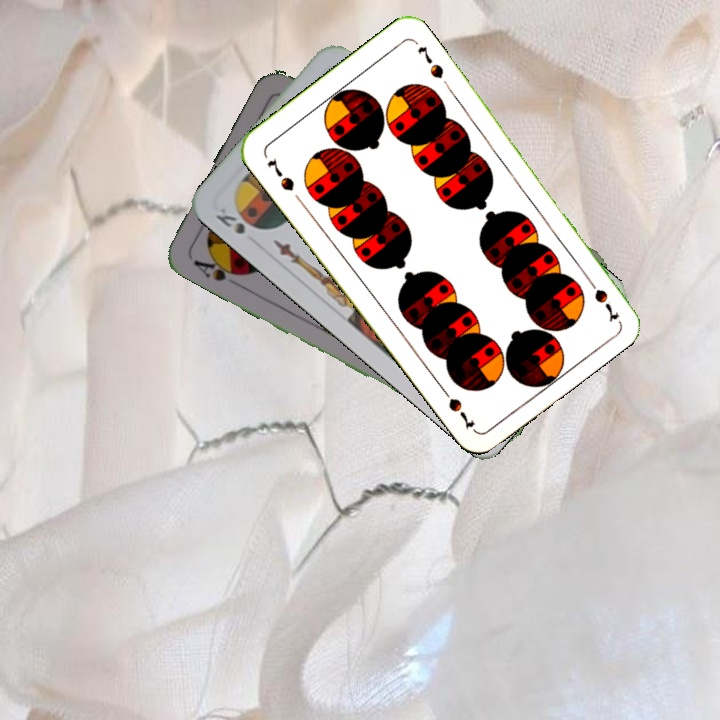S7: (581, 270, 622, 323), (262, 154, 297, 194)
SA: (189, 251, 246, 284)
SK: (211, 203, 248, 237)
